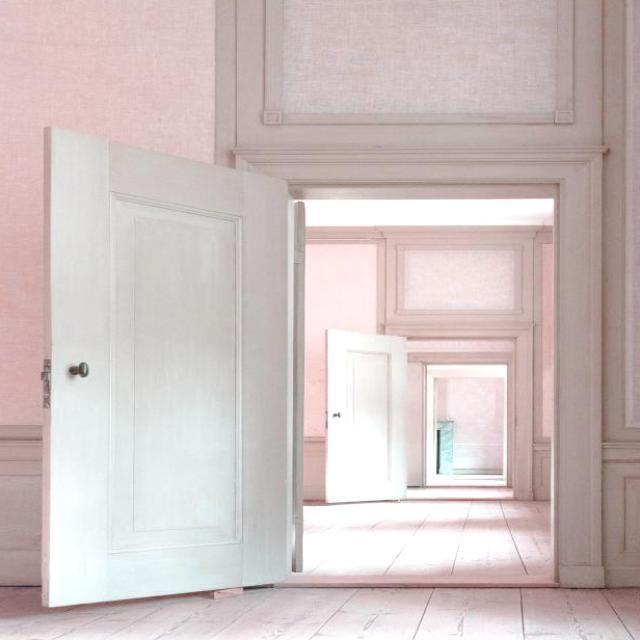door: (41, 124, 296, 607), (322, 322, 407, 506)
